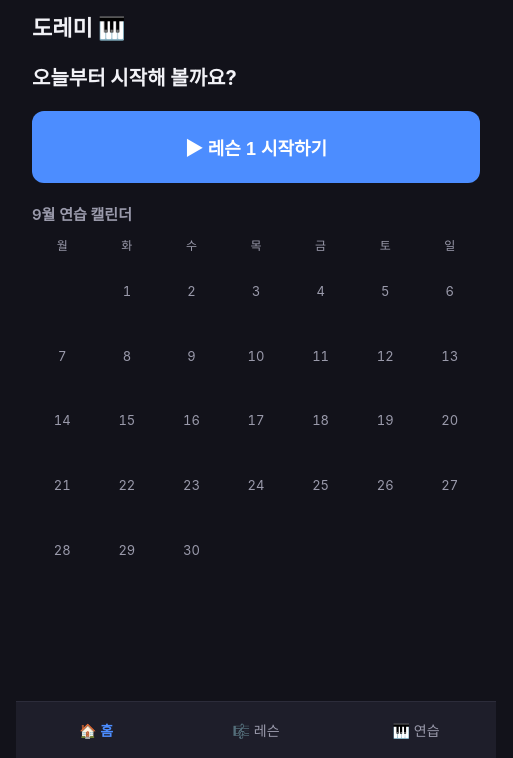
App 셸 › 레슨 탭에서 레슨 목록을 보여준다
This screenshot has width=513, height=758.
Click the tab "🎼 레슨" at (256, 730), box [176, 702, 336, 757]
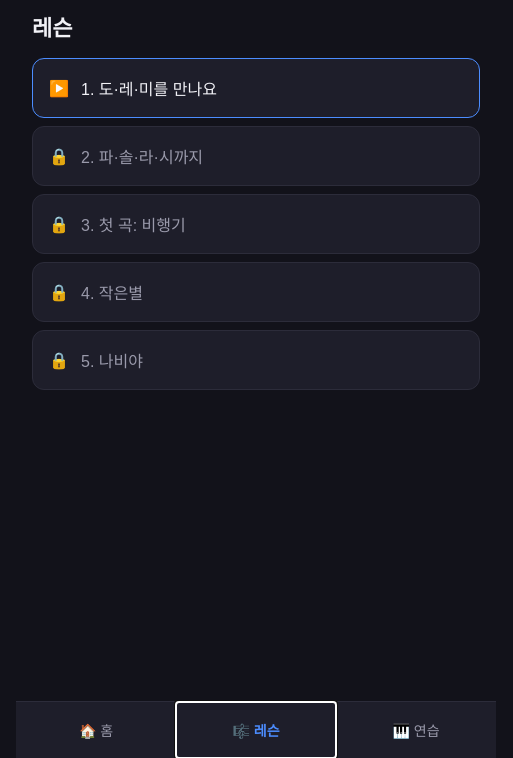
Expected: the number of list items is 5, [32, 58, 480, 118]; [32, 126, 480, 186]; [32, 194, 480, 254]; [32, 262, 480, 322]; [32, 330, 480, 390]
